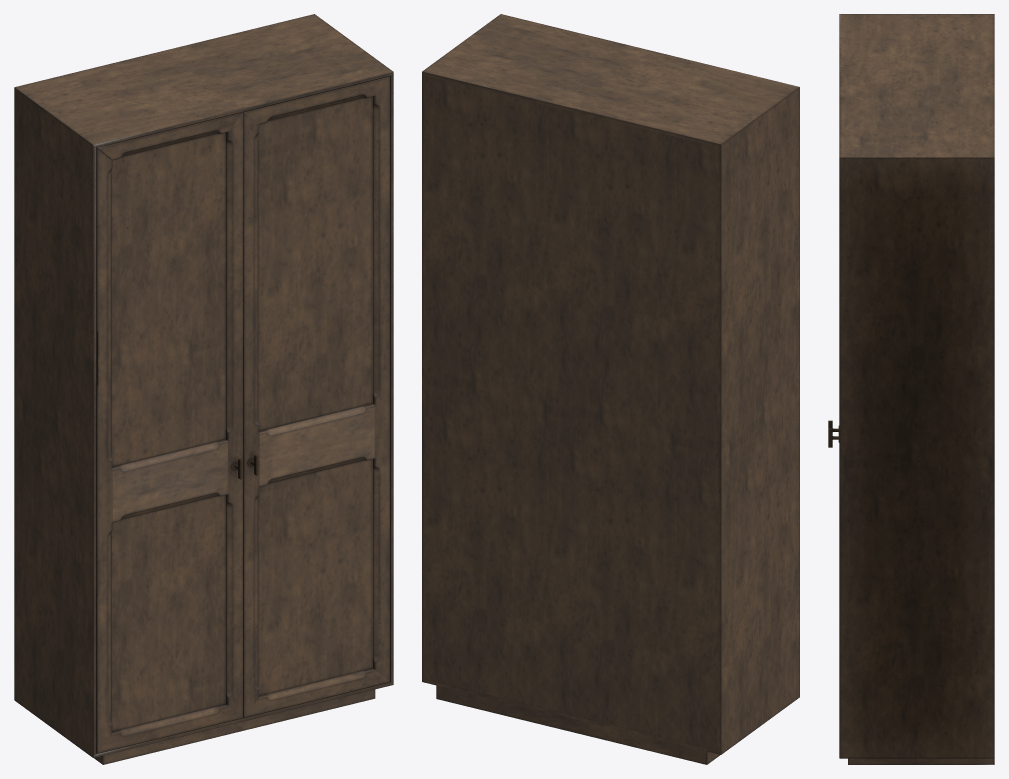
Rendered from 261106_Tallcabinet_WB1.glb.
The picture shows the model from 3 angles, left to right: view 1: azimuth 30°, elevation 25°; view 2: azimuth 150°, elevation 25°; view 3: azimuth 270°, elevation 25°; orthographic projection. The views are drawn at different scales.
Visible parts, largest first — view 1: Body009; view 2: Body009; view 3: Body009.
Part boxes in pixels (bbox=[...]): Body009: bbox=[14, 14, 393, 764]; Body009: bbox=[422, 14, 799, 764]; Body009: bbox=[828, 14, 994, 764].
Bounding box in the file's own units: 1.16 × 2.31 × 0.567.
Materials: 1 (1 with a texture image).
